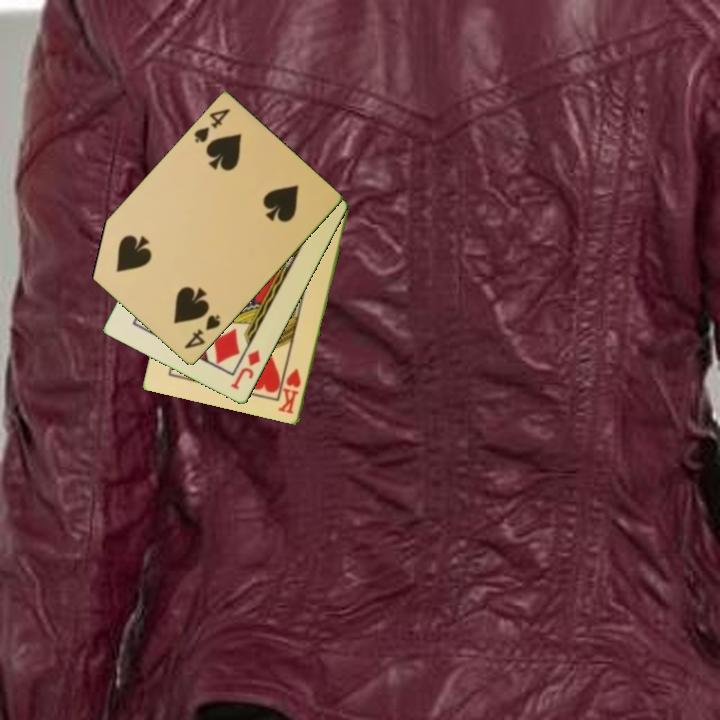4s: (190, 105, 233, 147), (180, 311, 223, 352)
Jd: (227, 347, 263, 393)
Kh: (275, 365, 304, 417)
